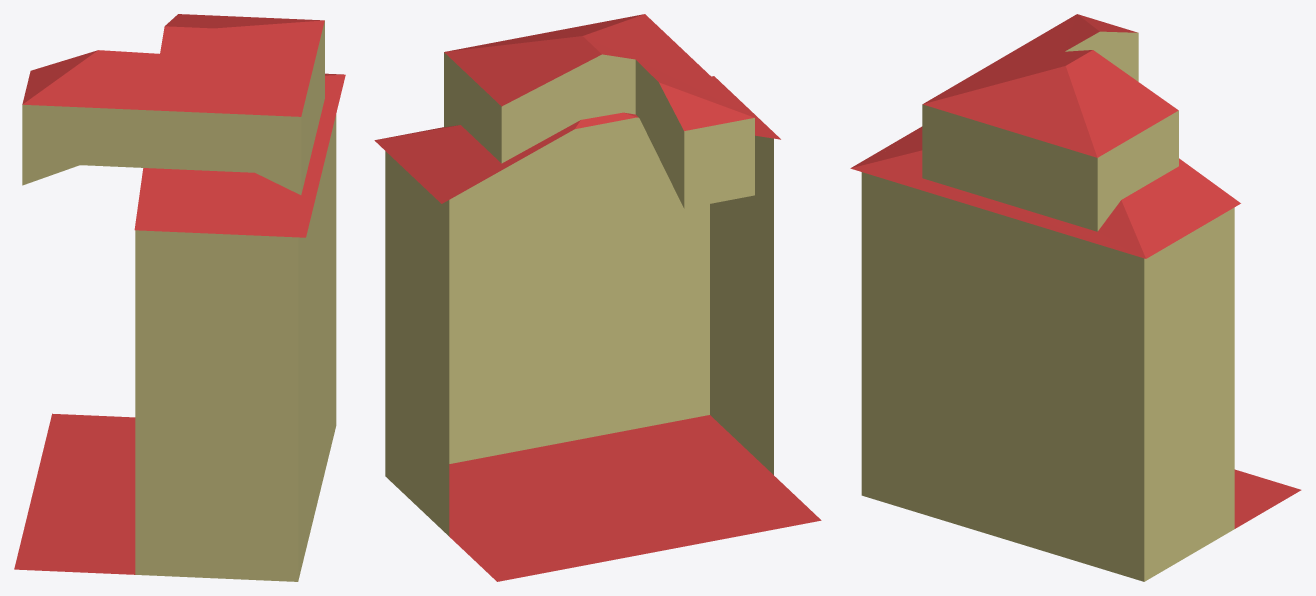
3 views of the same model, side by side, from view 1: azimuth 30°, elevation 25°; view 2: azimuth 150°, elevation 25°; view 3: azimuth 270°, elevation 25° (orthographic). The views are drawn at different scales.
Size of the model in its own units: 13.12 by 13.66 by 14.71.
